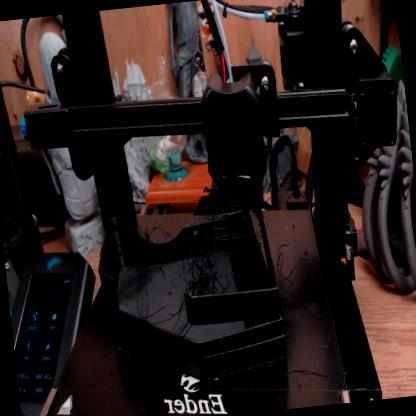fail: (176, 213, 247, 296)
